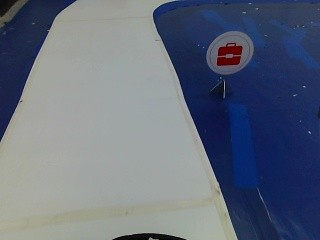company: (207, 33, 249, 75)
